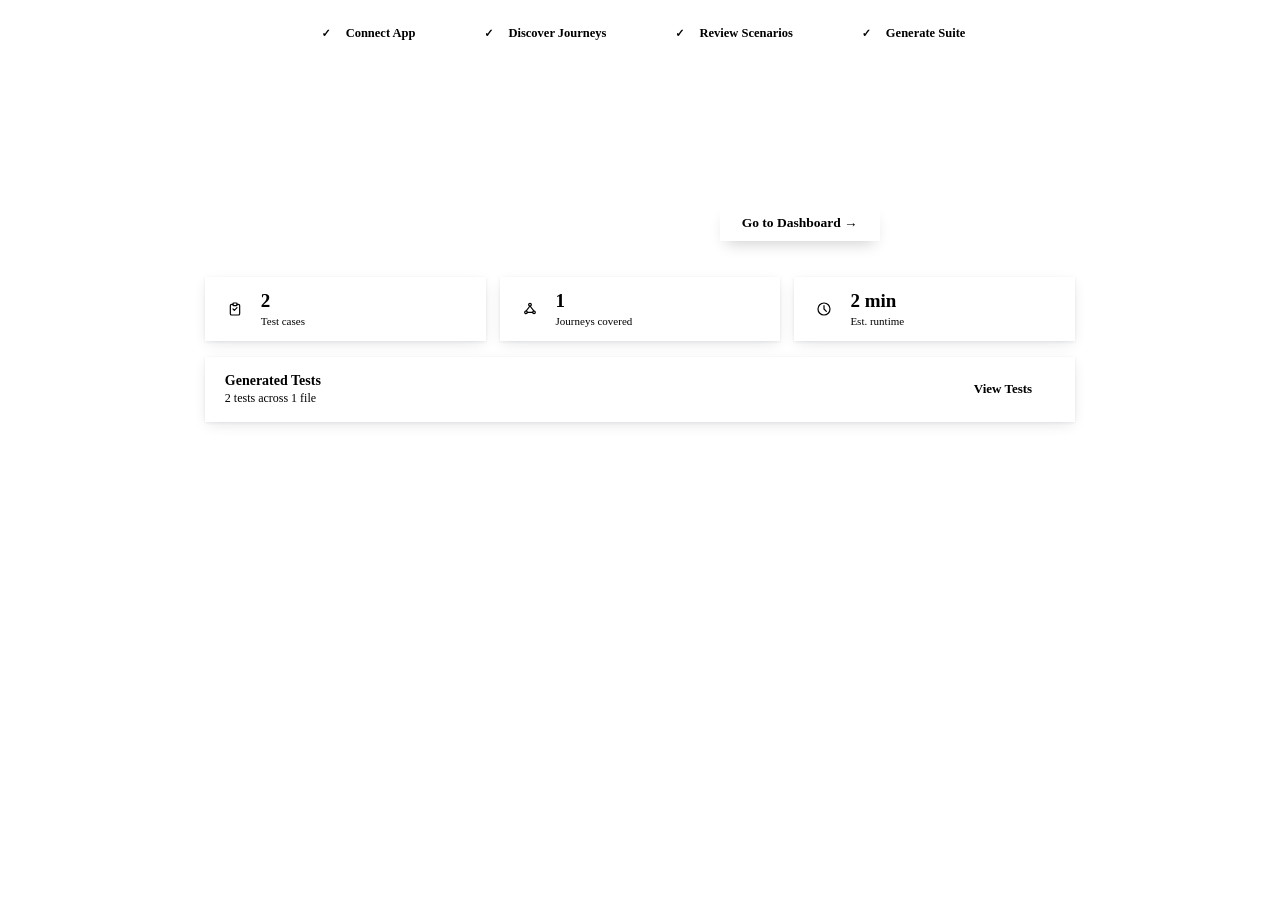
Test: TestSuiteResults › clicking View Code opens a modal with that row's own code; a different row shows its own code
Click the button "Generated Tests 2 tests across 1 file View Tests": click(273, 380) x1=205 y1=357 x2=1075 y2=422
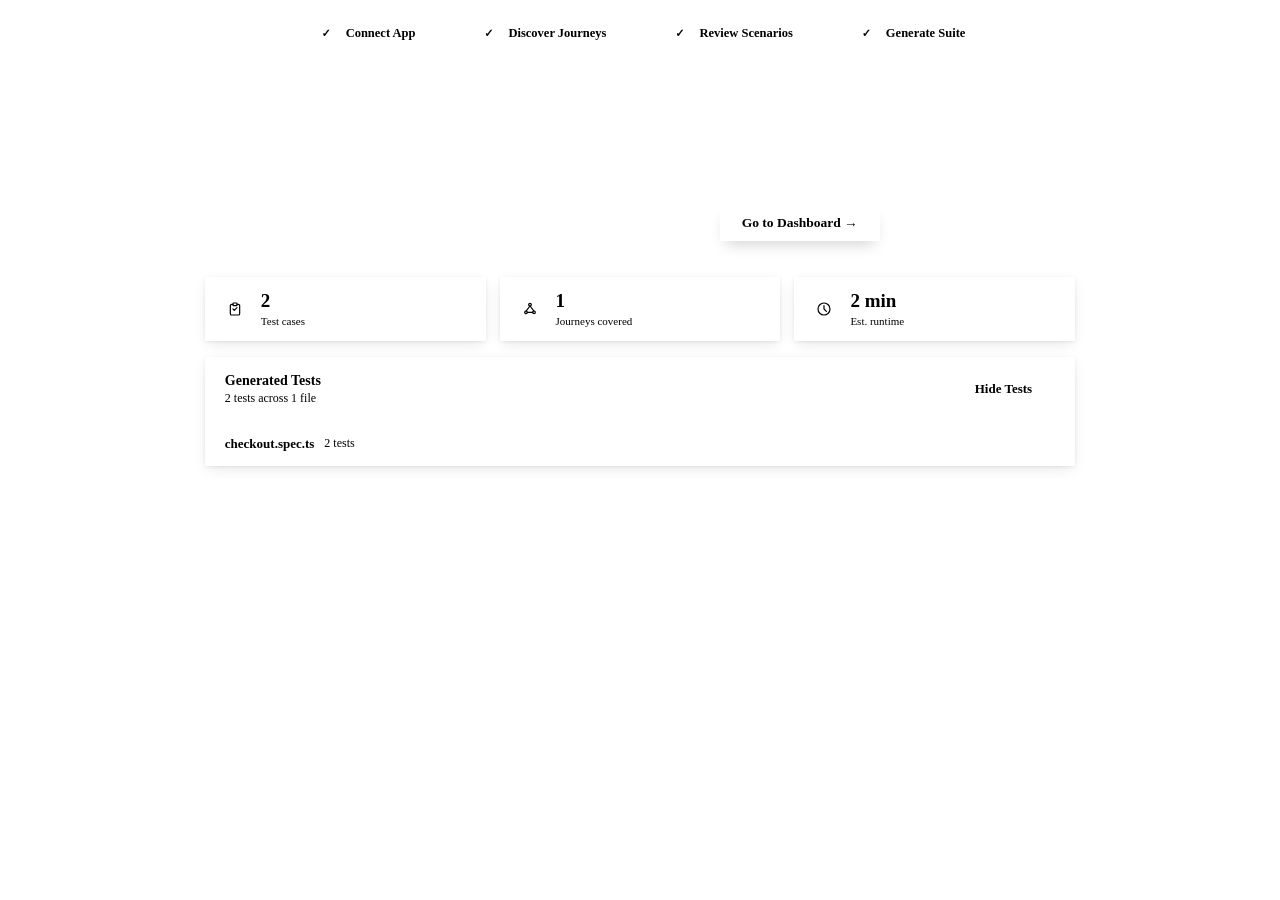
Click the button "checkout.spec.ts 2 tests": click(270, 443) x1=205 y1=422 x2=1075 y2=466
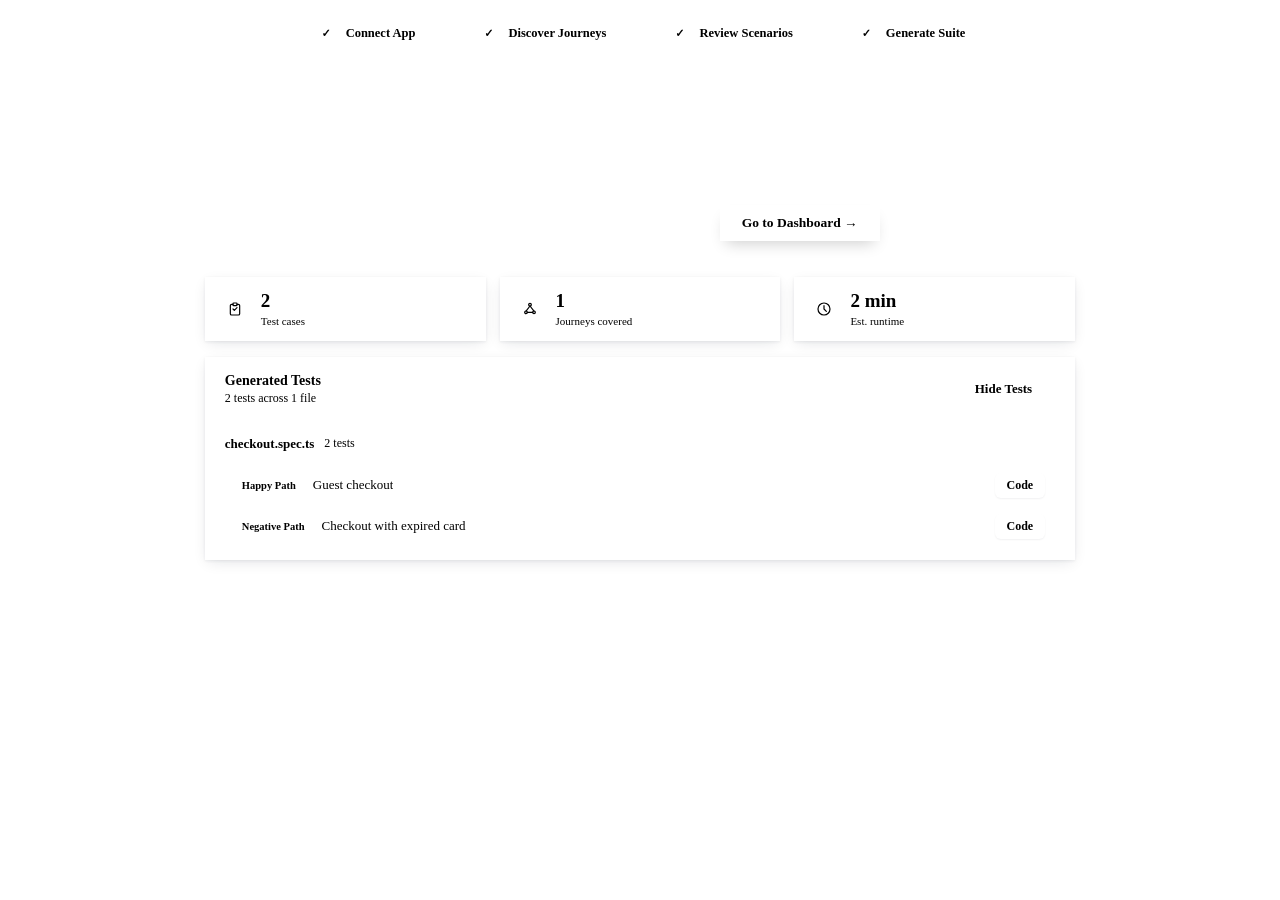
Now the text "Guest checkout" is shown, box x1=313 y1=477 x2=393 y2=493
Click the button "Code" in the row of "Guest checkout": click(1020, 485) x1=994 y1=473 x2=1045 y2=498
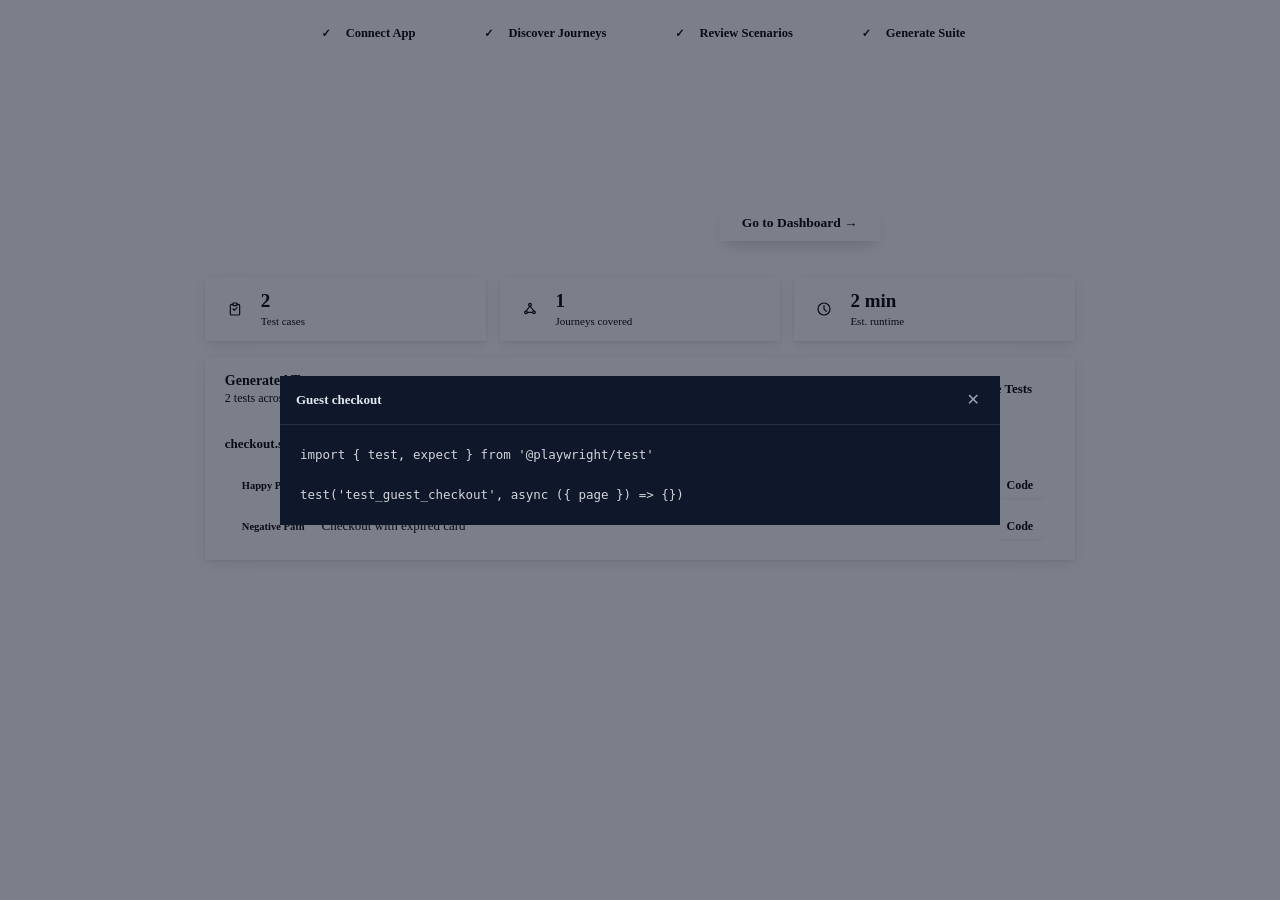
Now the text "test_guest_checkout" is shown, box x1=300 y1=446 x2=684 y2=502
Click the button named "Close": click(973, 400) x1=963 y1=388 x2=984 y2=412
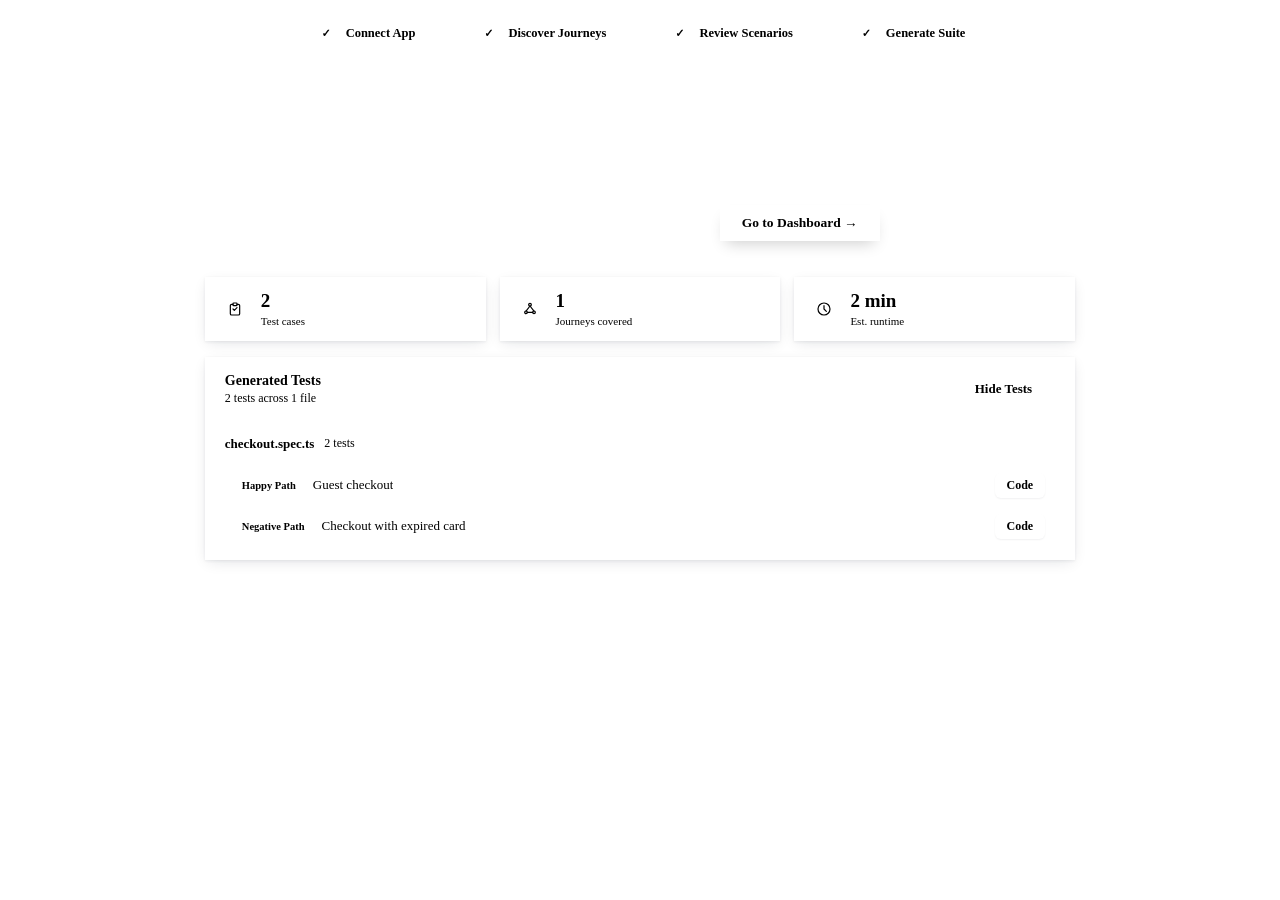
Click the button "Code" in the row of "Checkout with expired card": click(1020, 526) x1=994 y1=514 x2=1045 y2=539
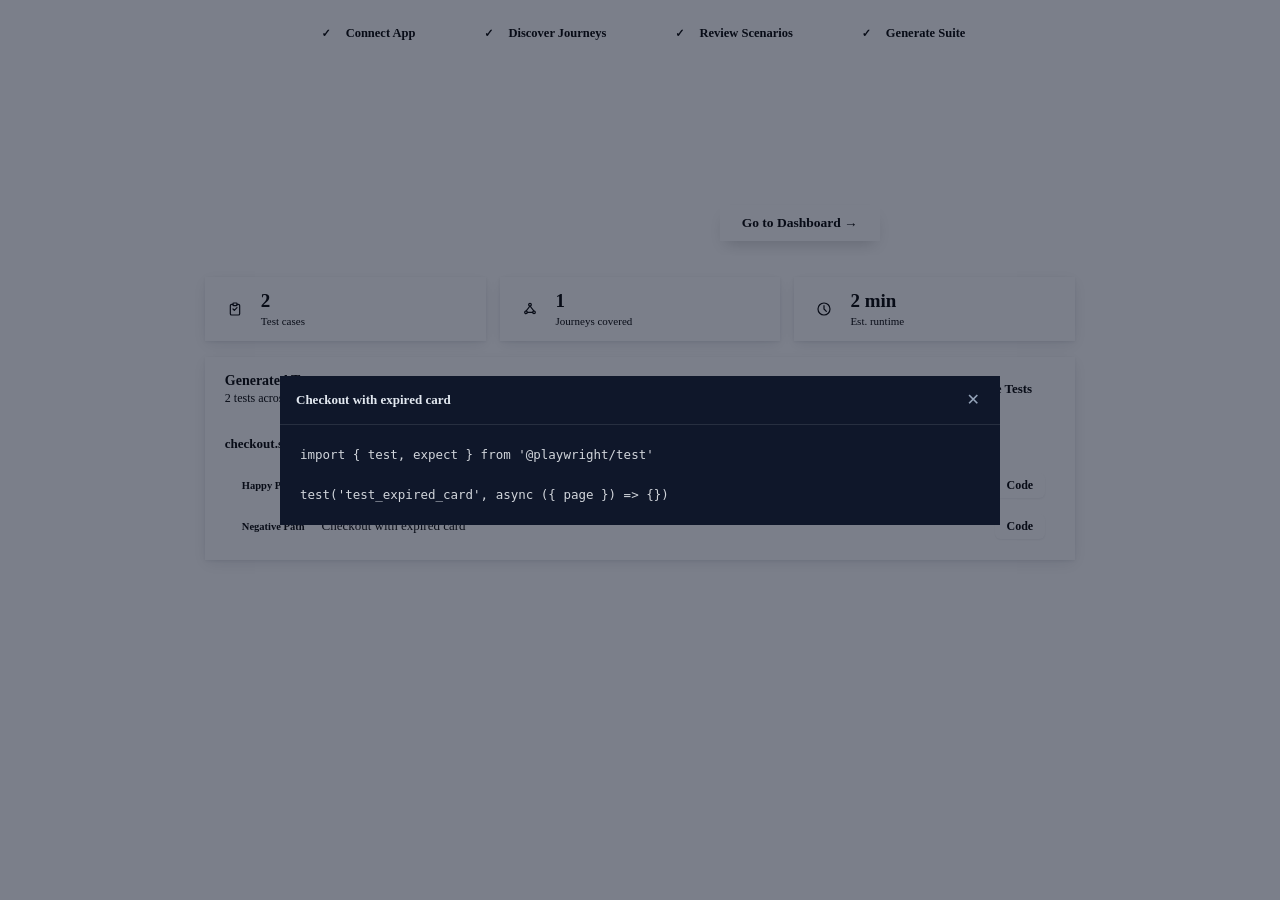
Now the text "test_expired_card" is shown, box x1=300 y1=446 x2=669 y2=502
